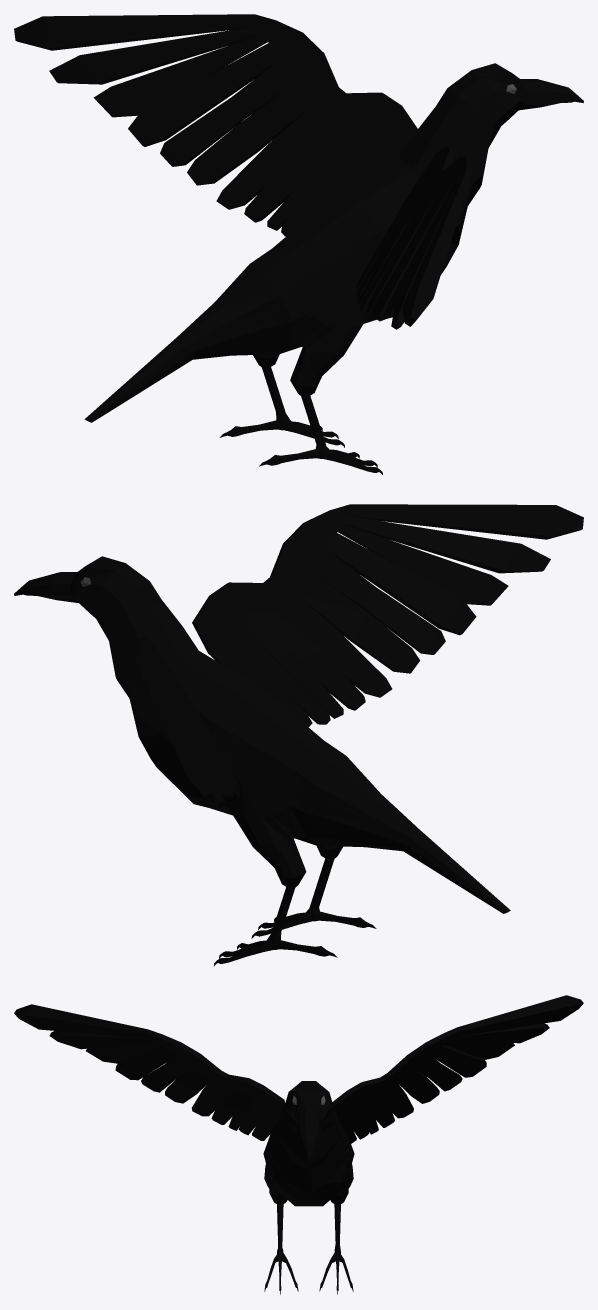
Rendered from crow_with_wings_slightly_up.obj.
The picture shows the model from 3 angles, top to bottom: view 1: azimuth 30°, elevation 25°; view 2: azimuth 150°, elevation 25°; view 3: azimuth 270°, elevation 25°; orthographic projection. The views are drawn at different scales.
Visible parts, largest first — view 1: Cylinder; view 2: Cylinder; view 3: Cylinder.
Part boxes in pixels (x1,y1,x2,y2): Cylinder: (14,14,583,474); Cylinder: (14,504,583,965); Cylinder: (14,995,583,1294).
Size of the model in its own units: 1.52 by 1.06 by 2.05.
